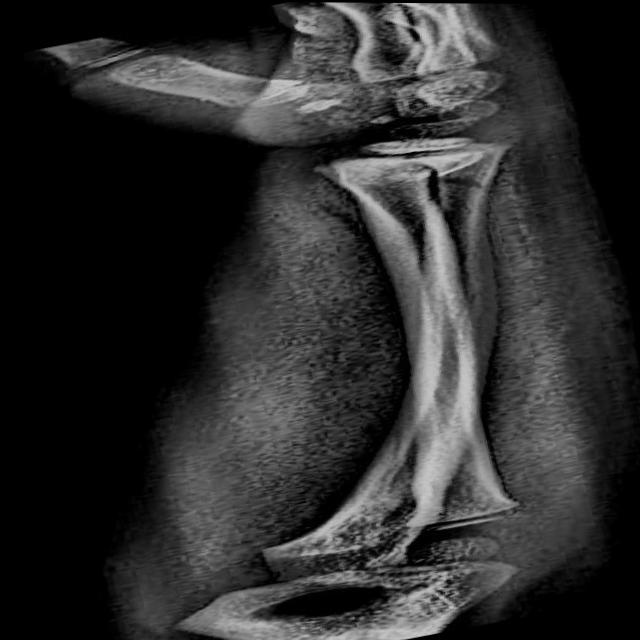fracture: (436, 164, 499, 200)
